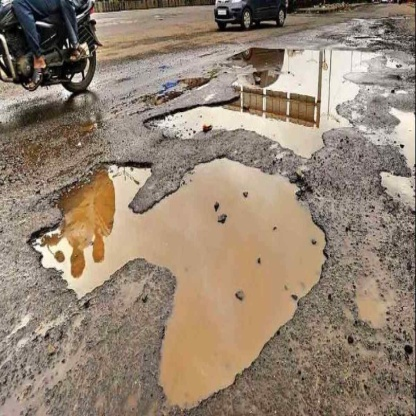pothole: (13, 163, 339, 416), (143, 40, 389, 167)
